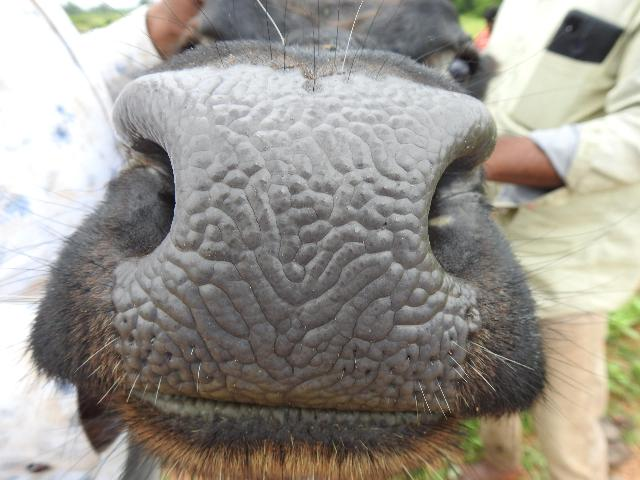Muzzle: (160, 80, 438, 410)
